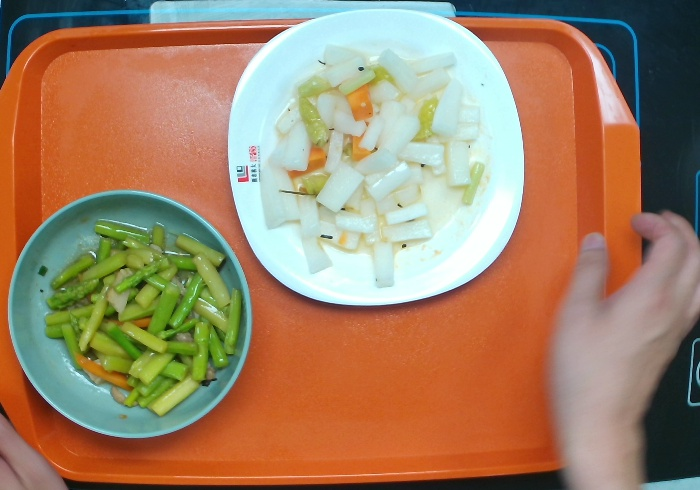ZNLD-Qing_Hua_Yuan_Wan: (4, 190, 253, 441)
ZNLD-Yuan_Jiao_Pan: (224, 7, 526, 309)
